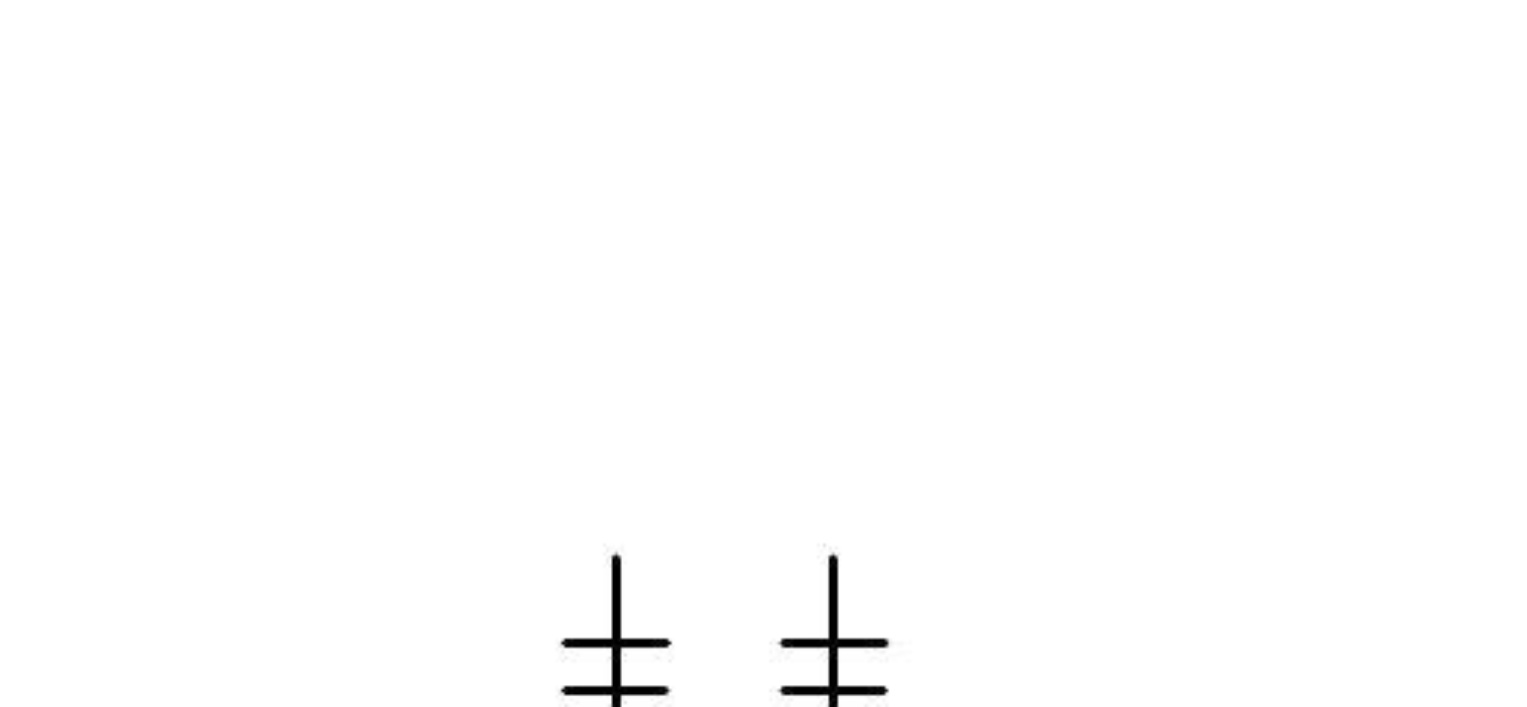115_buffer: (779, 637, 890, 695), (561, 638, 672, 695)
